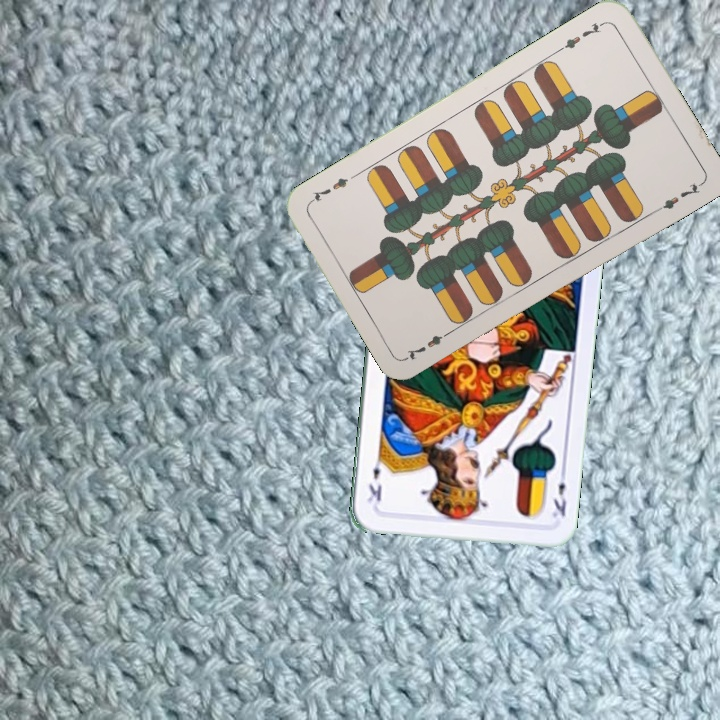E7: (555, 17, 608, 54), (403, 325, 456, 362)
EK: (548, 466, 569, 525)
